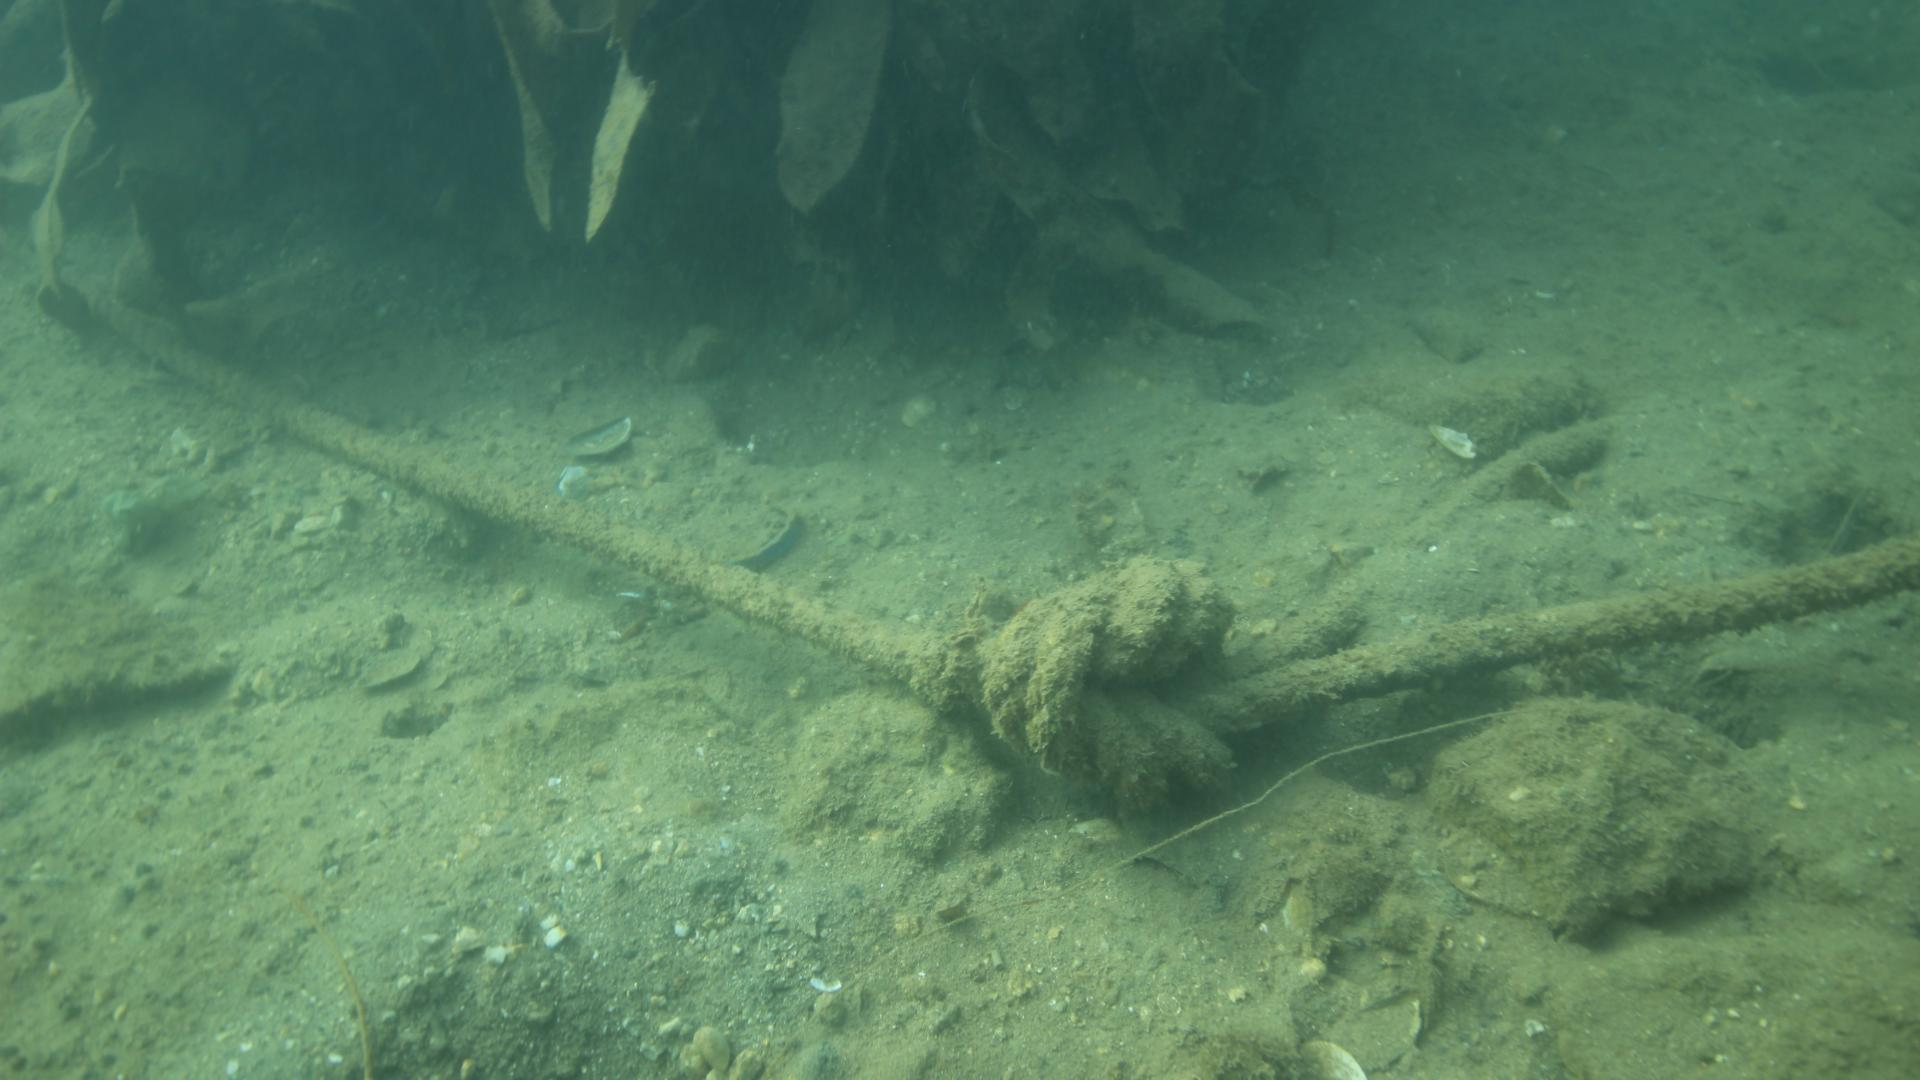bundle of ropes: (54, 237, 1920, 814)
